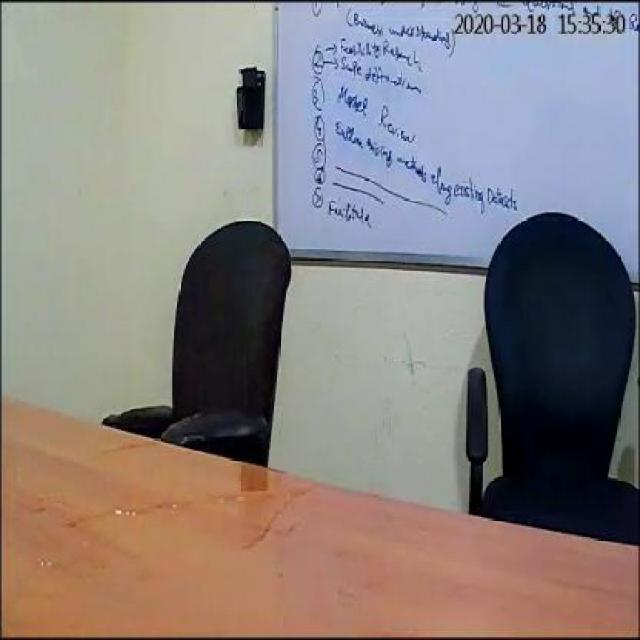spill: (28, 436, 284, 518)
